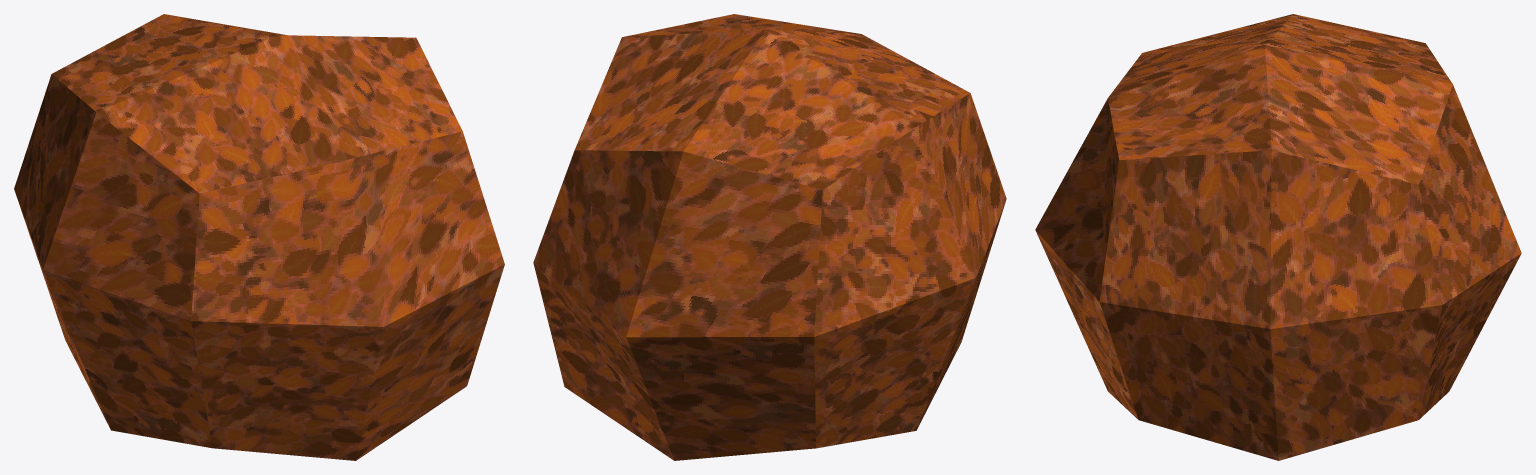
File: bush_2.glb
3 renders of one model, left to right at view 1: azimuth 30°, elevation 25°; view 2: azimuth 150°, elevation 25°; view 3: azimuth 270°, elevation 25°, orthographic. The views are drawn at different scales.
Visible parts, largest first — view 1: Cube; view 2: Cube; view 3: Cube.
Part boxes in pixels (x1,y1,x2,y2): Cube: [14, 14, 504, 460]; Cube: [533, 14, 1006, 460]; Cube: [1035, 14, 1521, 460].
Bounding box in the file's own units: 1.66 × 1.37 × 1.74.
Materials: 1 (1 with a texture image).
